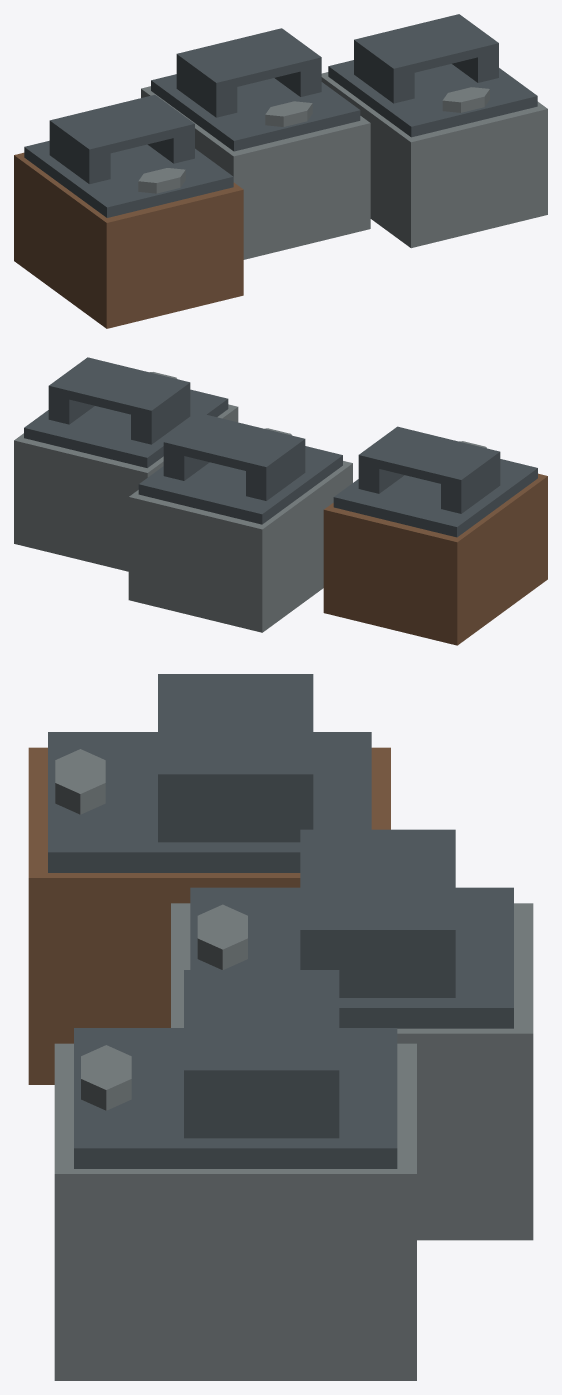
File: fuel_can_group.glb
3 views of the same model, one above another, from view 1: azimuth 30°, elevation 25°; view 2: azimuth 150°, elevation 25°; view 3: azimuth 270°, elevation 25° (orthographic). The views are drawn at different scales.
Parts seen in each view (by area): view 1: fuel_can_group; view 2: fuel_can_group; view 3: fuel_can_group.
Part boxes in pixels (left/top/right/bottom): fuel_can_group: left=14, top=14, right=547, bottom=328; fuel_can_group: left=14, top=357, right=547, bottom=645; fuel_can_group: left=28, top=674, right=533, bottom=1380.
Size of the model in its own units: 1.92 by 0.62 by 0.96.
